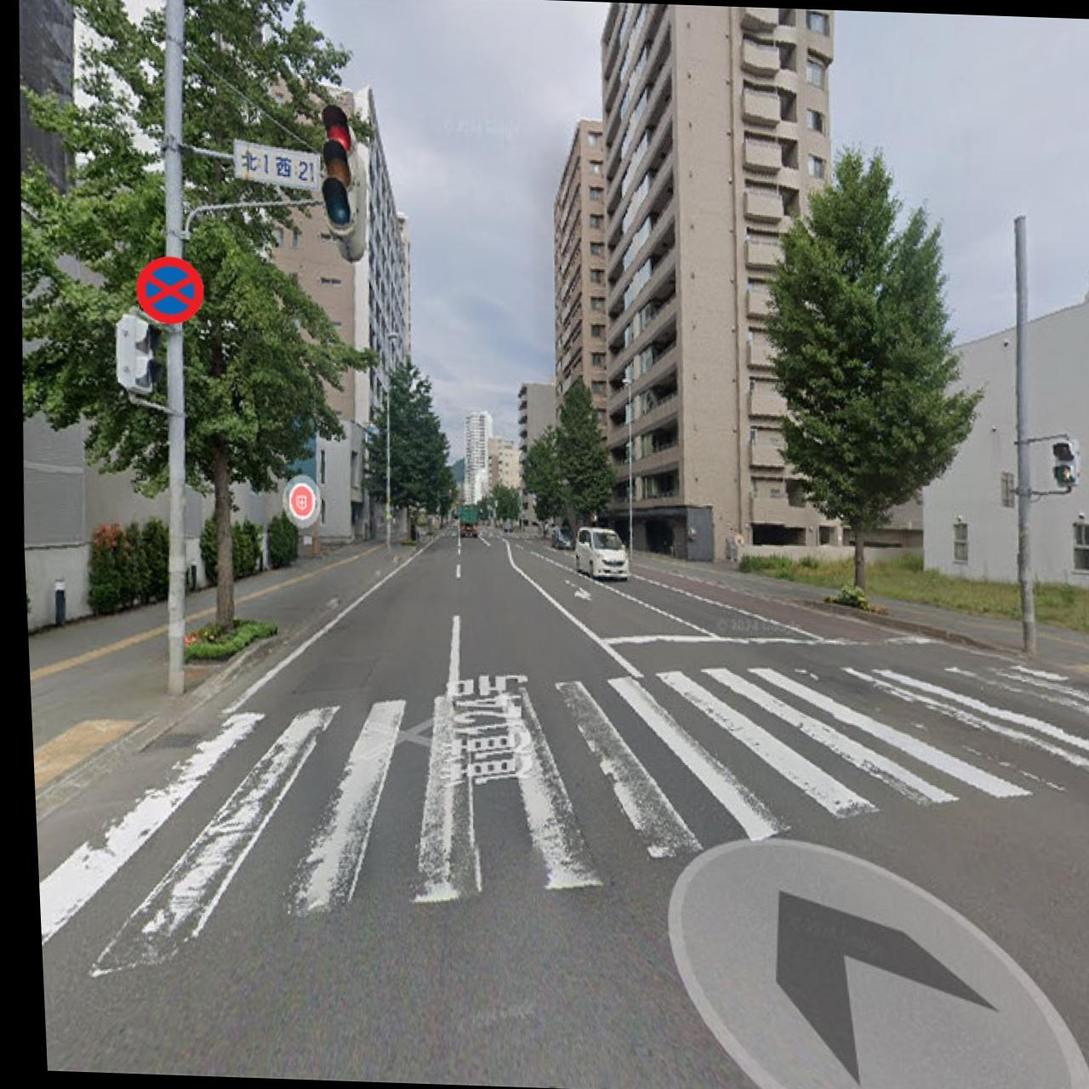stop_sign: (129, 249, 210, 327)
